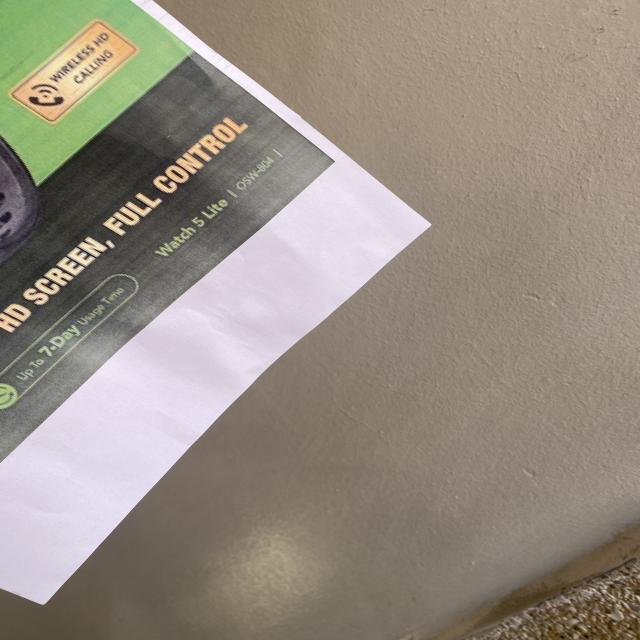Watch 5 Lite OSW-804: (150, 147, 300, 263)
